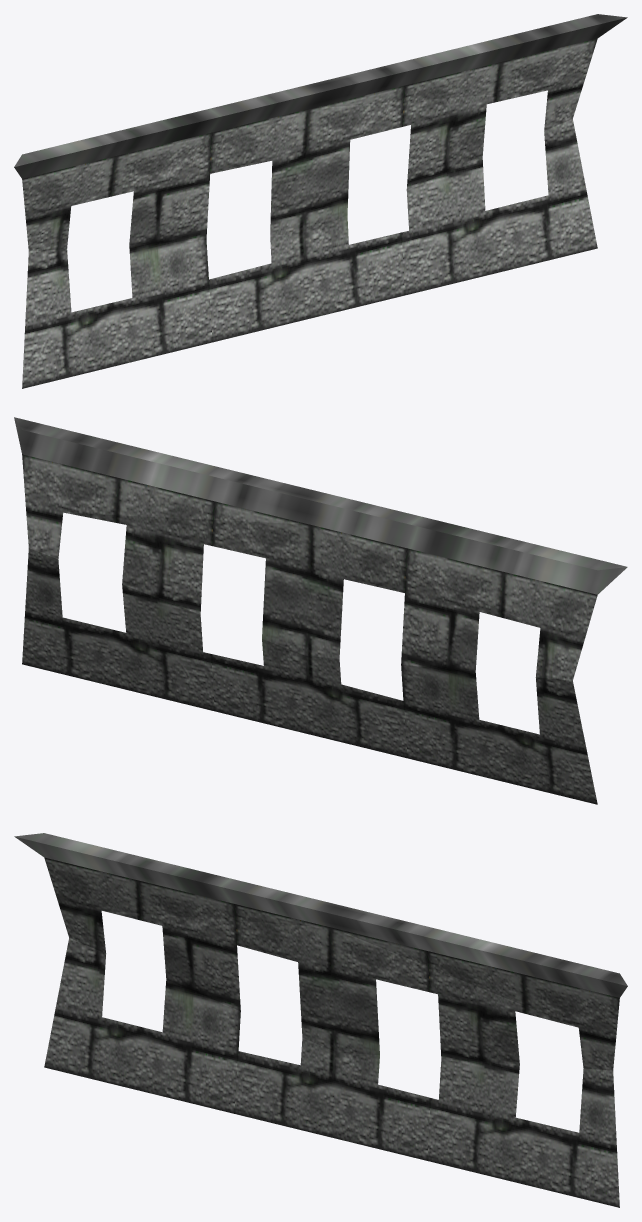
Rendered from W_A1_ffff [Stein]_455.glb.
The picture shows the model from 3 angles, top to bottom: view 1: azimuth 30°, elevation 25°; view 2: azimuth 150°, elevation 25°; view 3: azimuth 330°, elevation 25°; orthographic projection.
Parts seen in each view (by area): view 1: polySurfaceShape728, polySurfaceShape1064; view 2: polySurfaceShape728, polySurfaceShape1064; view 3: polySurfaceShape728, polySurfaceShape1064.
Boxes of the visible parts, x1,y1,x2,y2 form: polySurfaceShape728: (22,38,597,388); polySurfaceShape1064: (14,14,627,178); polySurfaceShape728: (22,454,597,804); polySurfaceShape1064: (14,417,627,594); polySurfaceShape728: (44,857,619,1207); polySurfaceShape1064: (14,833,627,997).
Bounding box in the file's own units: 1.07 × 0.3891 × 0.0607.
Materials: 2 (2 with a texture image).
